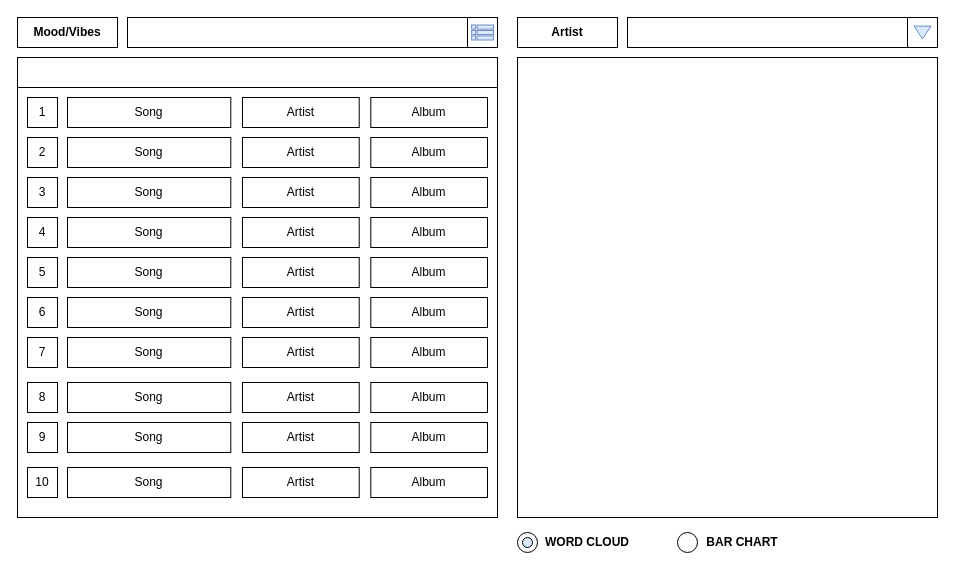
The diagram is 955 pixels wide and 575 high, and some of its shapes have lost their labels. The shapes that lost their labels are listed below. From the top down, each one's box as (x1, y1, x2, y2) in pixels, then its label:
(126, 16, 468, 48): words_list
(626, 16, 908, 48): artist_name
(16, 56, 498, 88): Top 10 Songs
